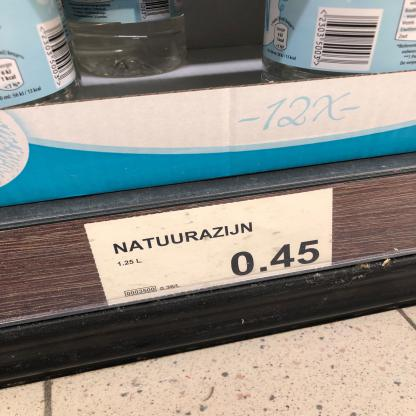prtg: (85, 189, 333, 307)
